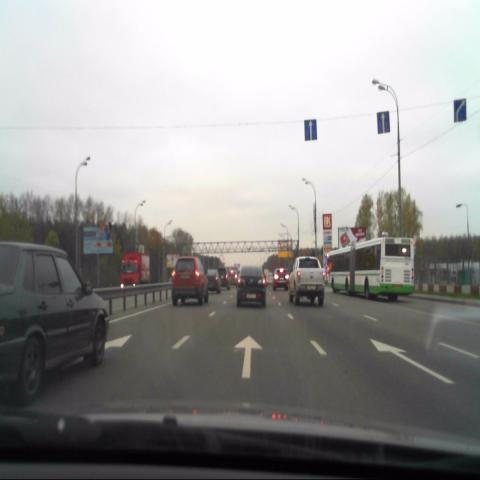5_15_2: (304, 119, 317, 141)
